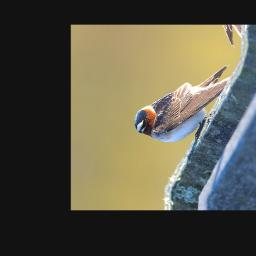Swallow: (130, 46, 237, 156)
